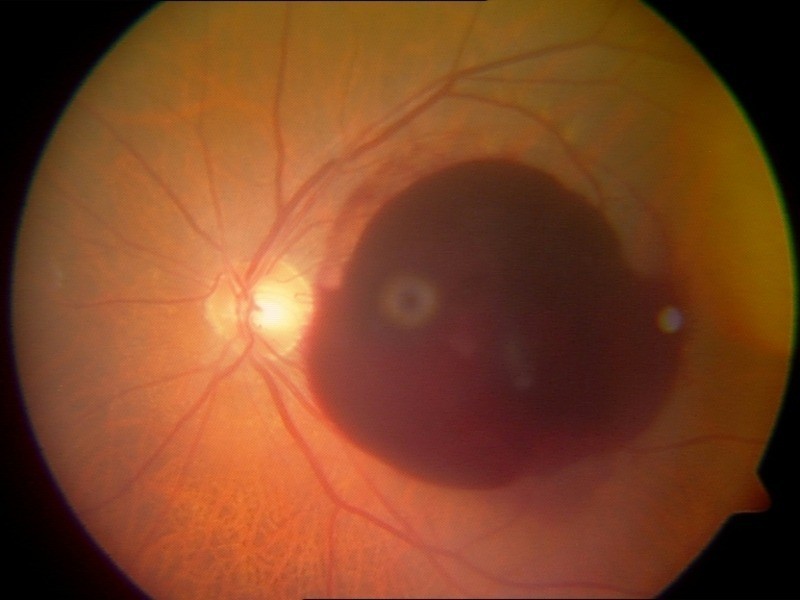Optic Cup: (249, 284, 306, 328)
Optic Disc: (209, 258, 313, 360)
